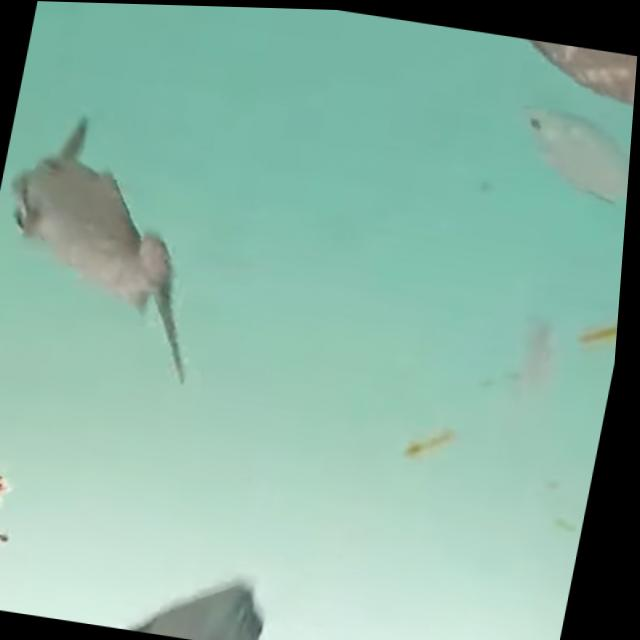fish: (0, 102, 234, 400), (494, 89, 636, 222)
